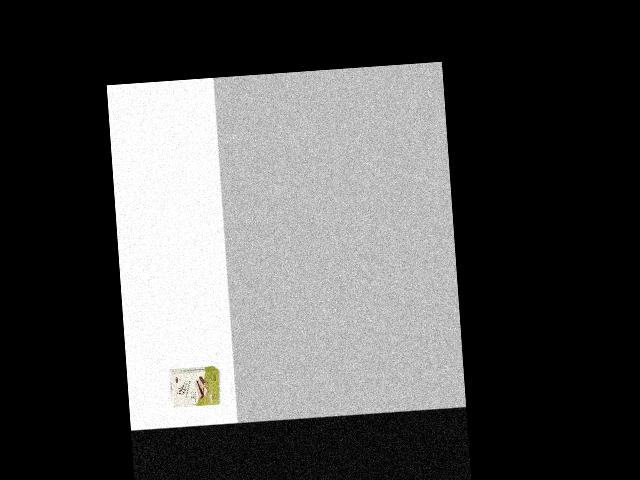chocolate: (168, 362, 222, 408)
